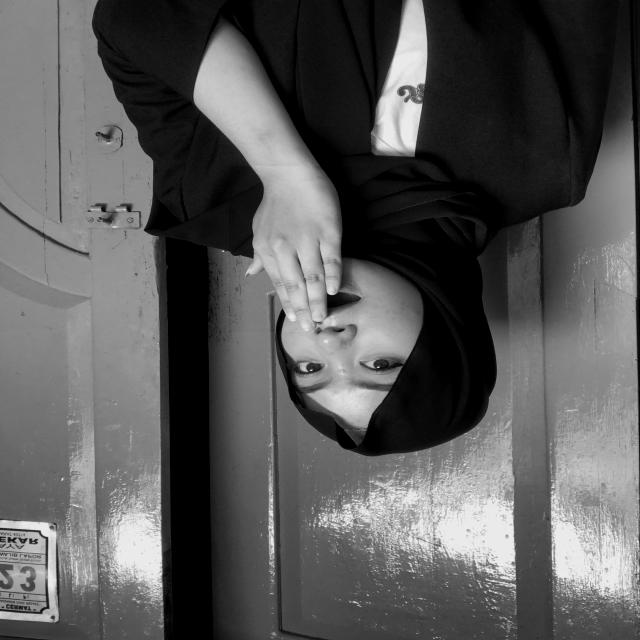ngantuk: (229, 166, 352, 332)
